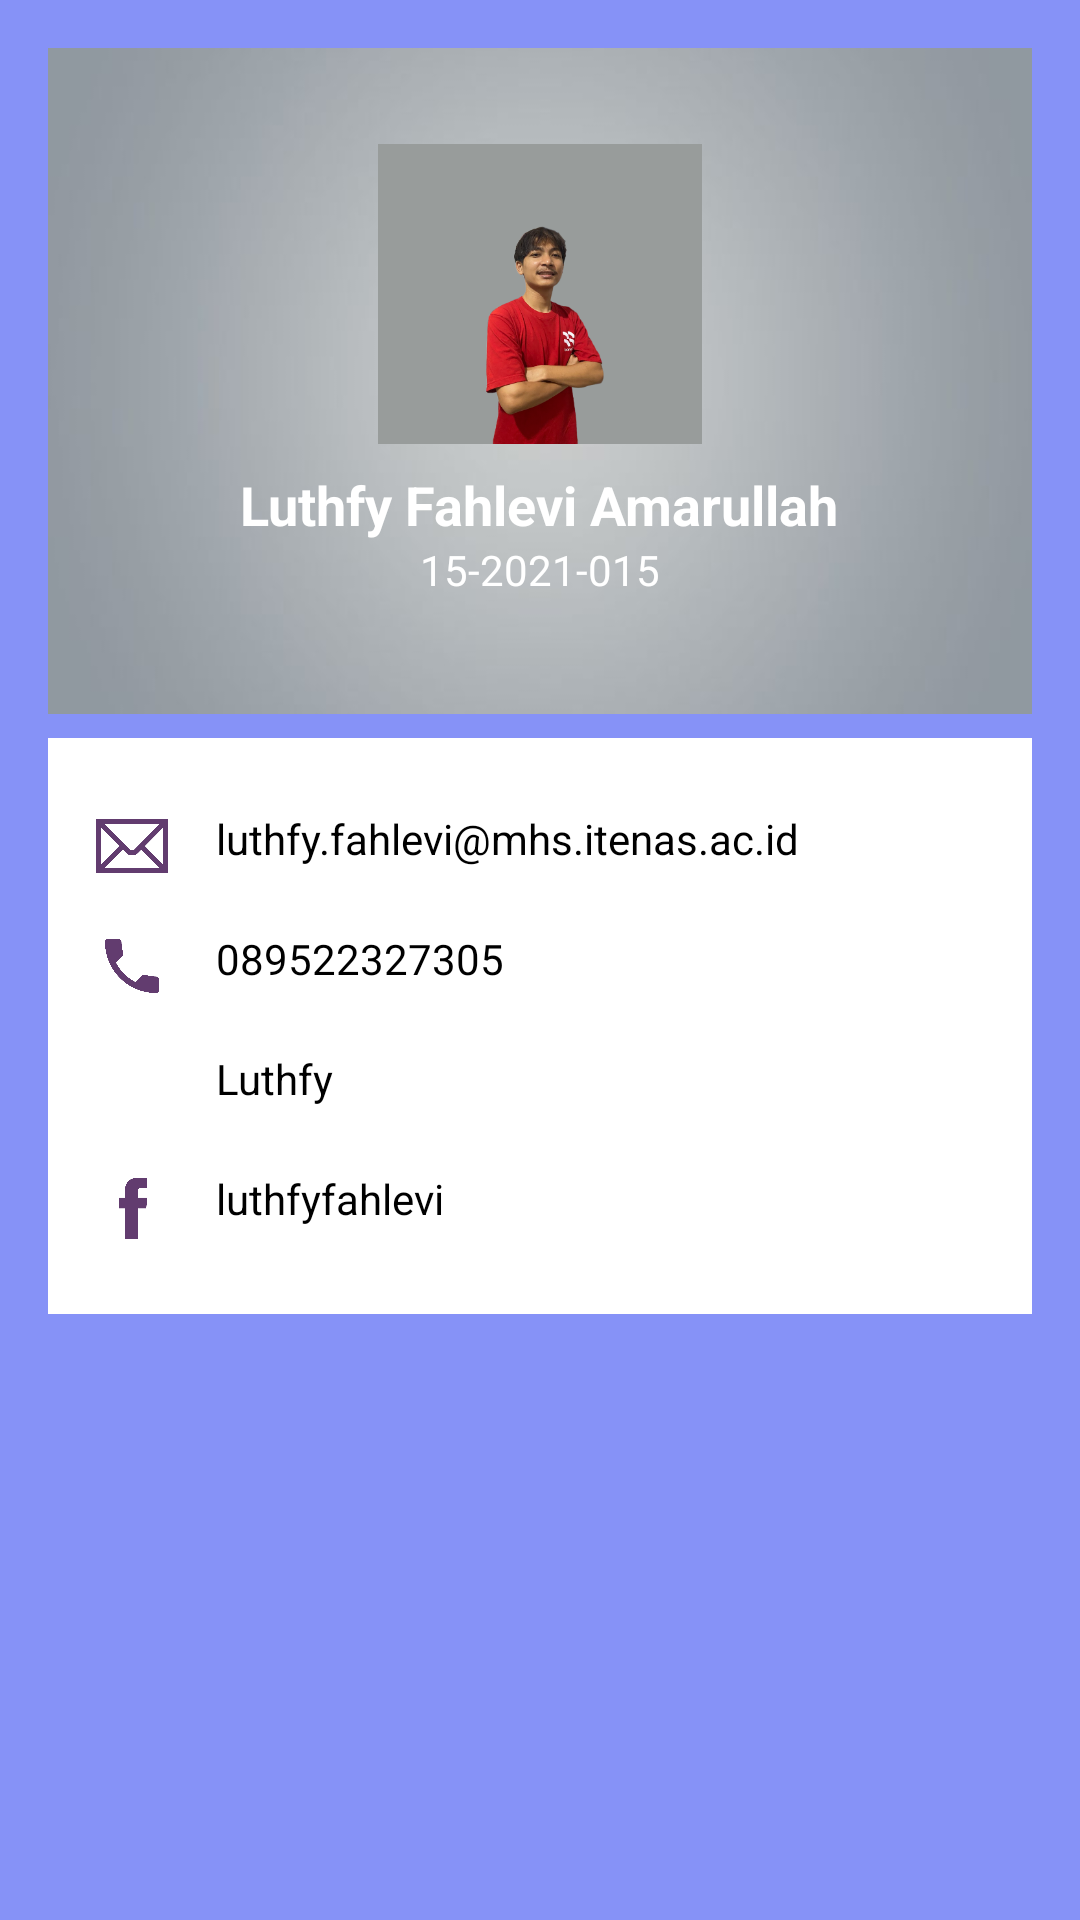

Icons on this 1080px×1920px Android screen, each with the point to tap as [x,y]:
Email Icon: [132,846]
Phone Icon: [132,966]
profile: [540,294]
